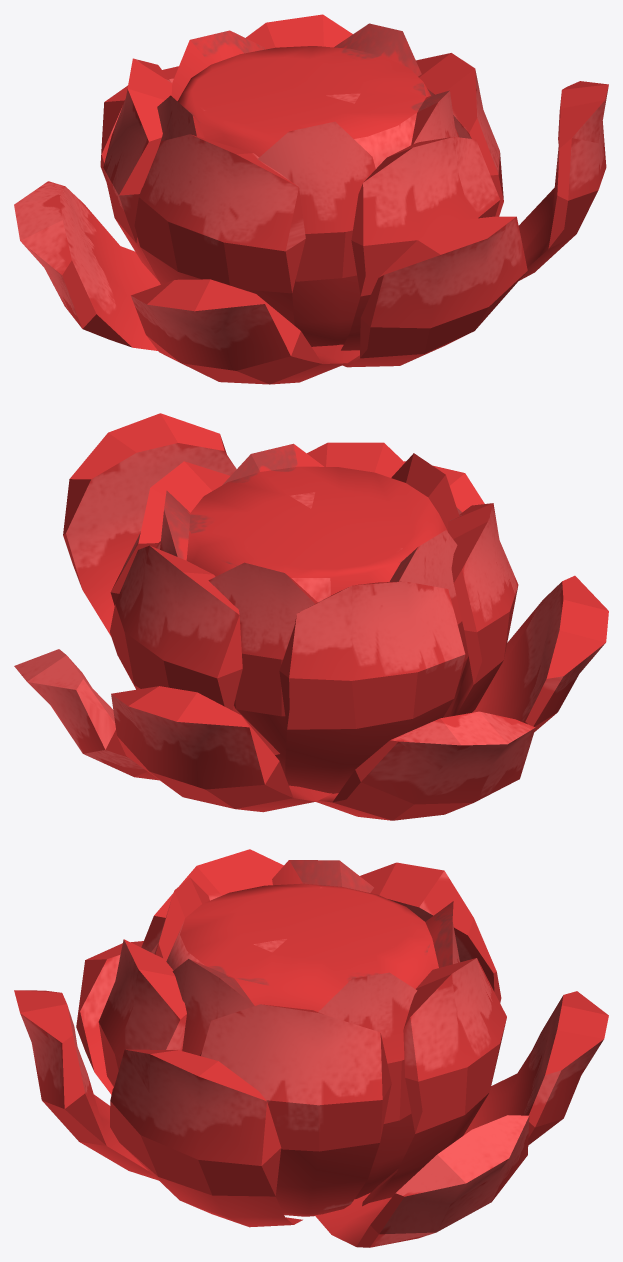
The model's file is flower3.fbx.
3 renders of one model, top to bottom at view 1: azimuth 30°, elevation 25°; view 2: azimuth 150°, elevation 25°; view 3: azimuth 270°, elevation 25°, orthographic. The views are drawn at different scales.
Parts seen in each view (by area): view 1: Infection_3; view 2: Infection_3; view 3: Infection_3.
Part boxes in pixels (bbox=[...]): Infection_3: bbox=[14, 14, 608, 384]; Infection_3: bbox=[14, 413, 608, 820]; Infection_3: bbox=[14, 849, 608, 1247].
Size of the model in its own units: 2.47 by 1.32 by 2.46.
